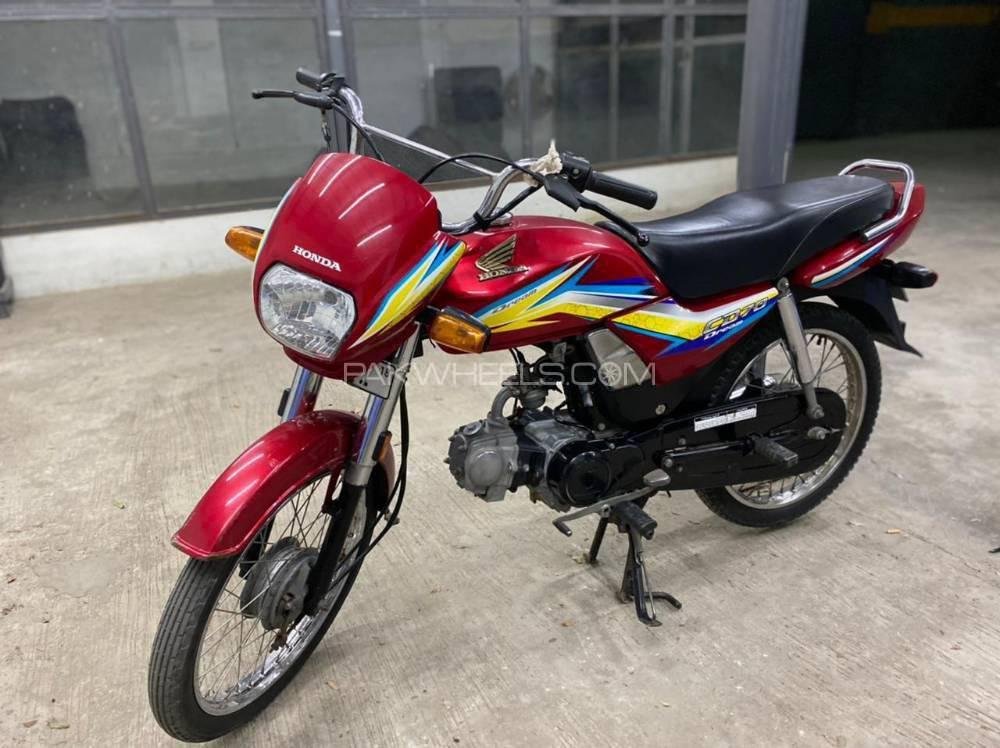bike: (140, 67, 938, 743)
